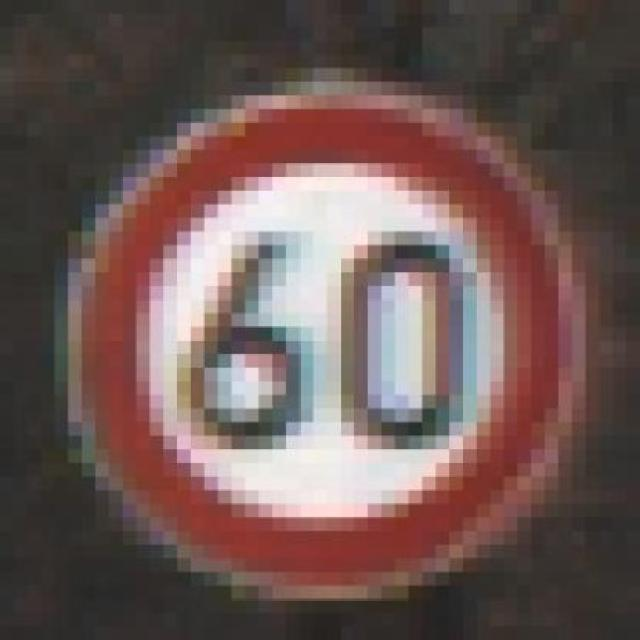forb_speed_over_60: (82, 99, 560, 587)
